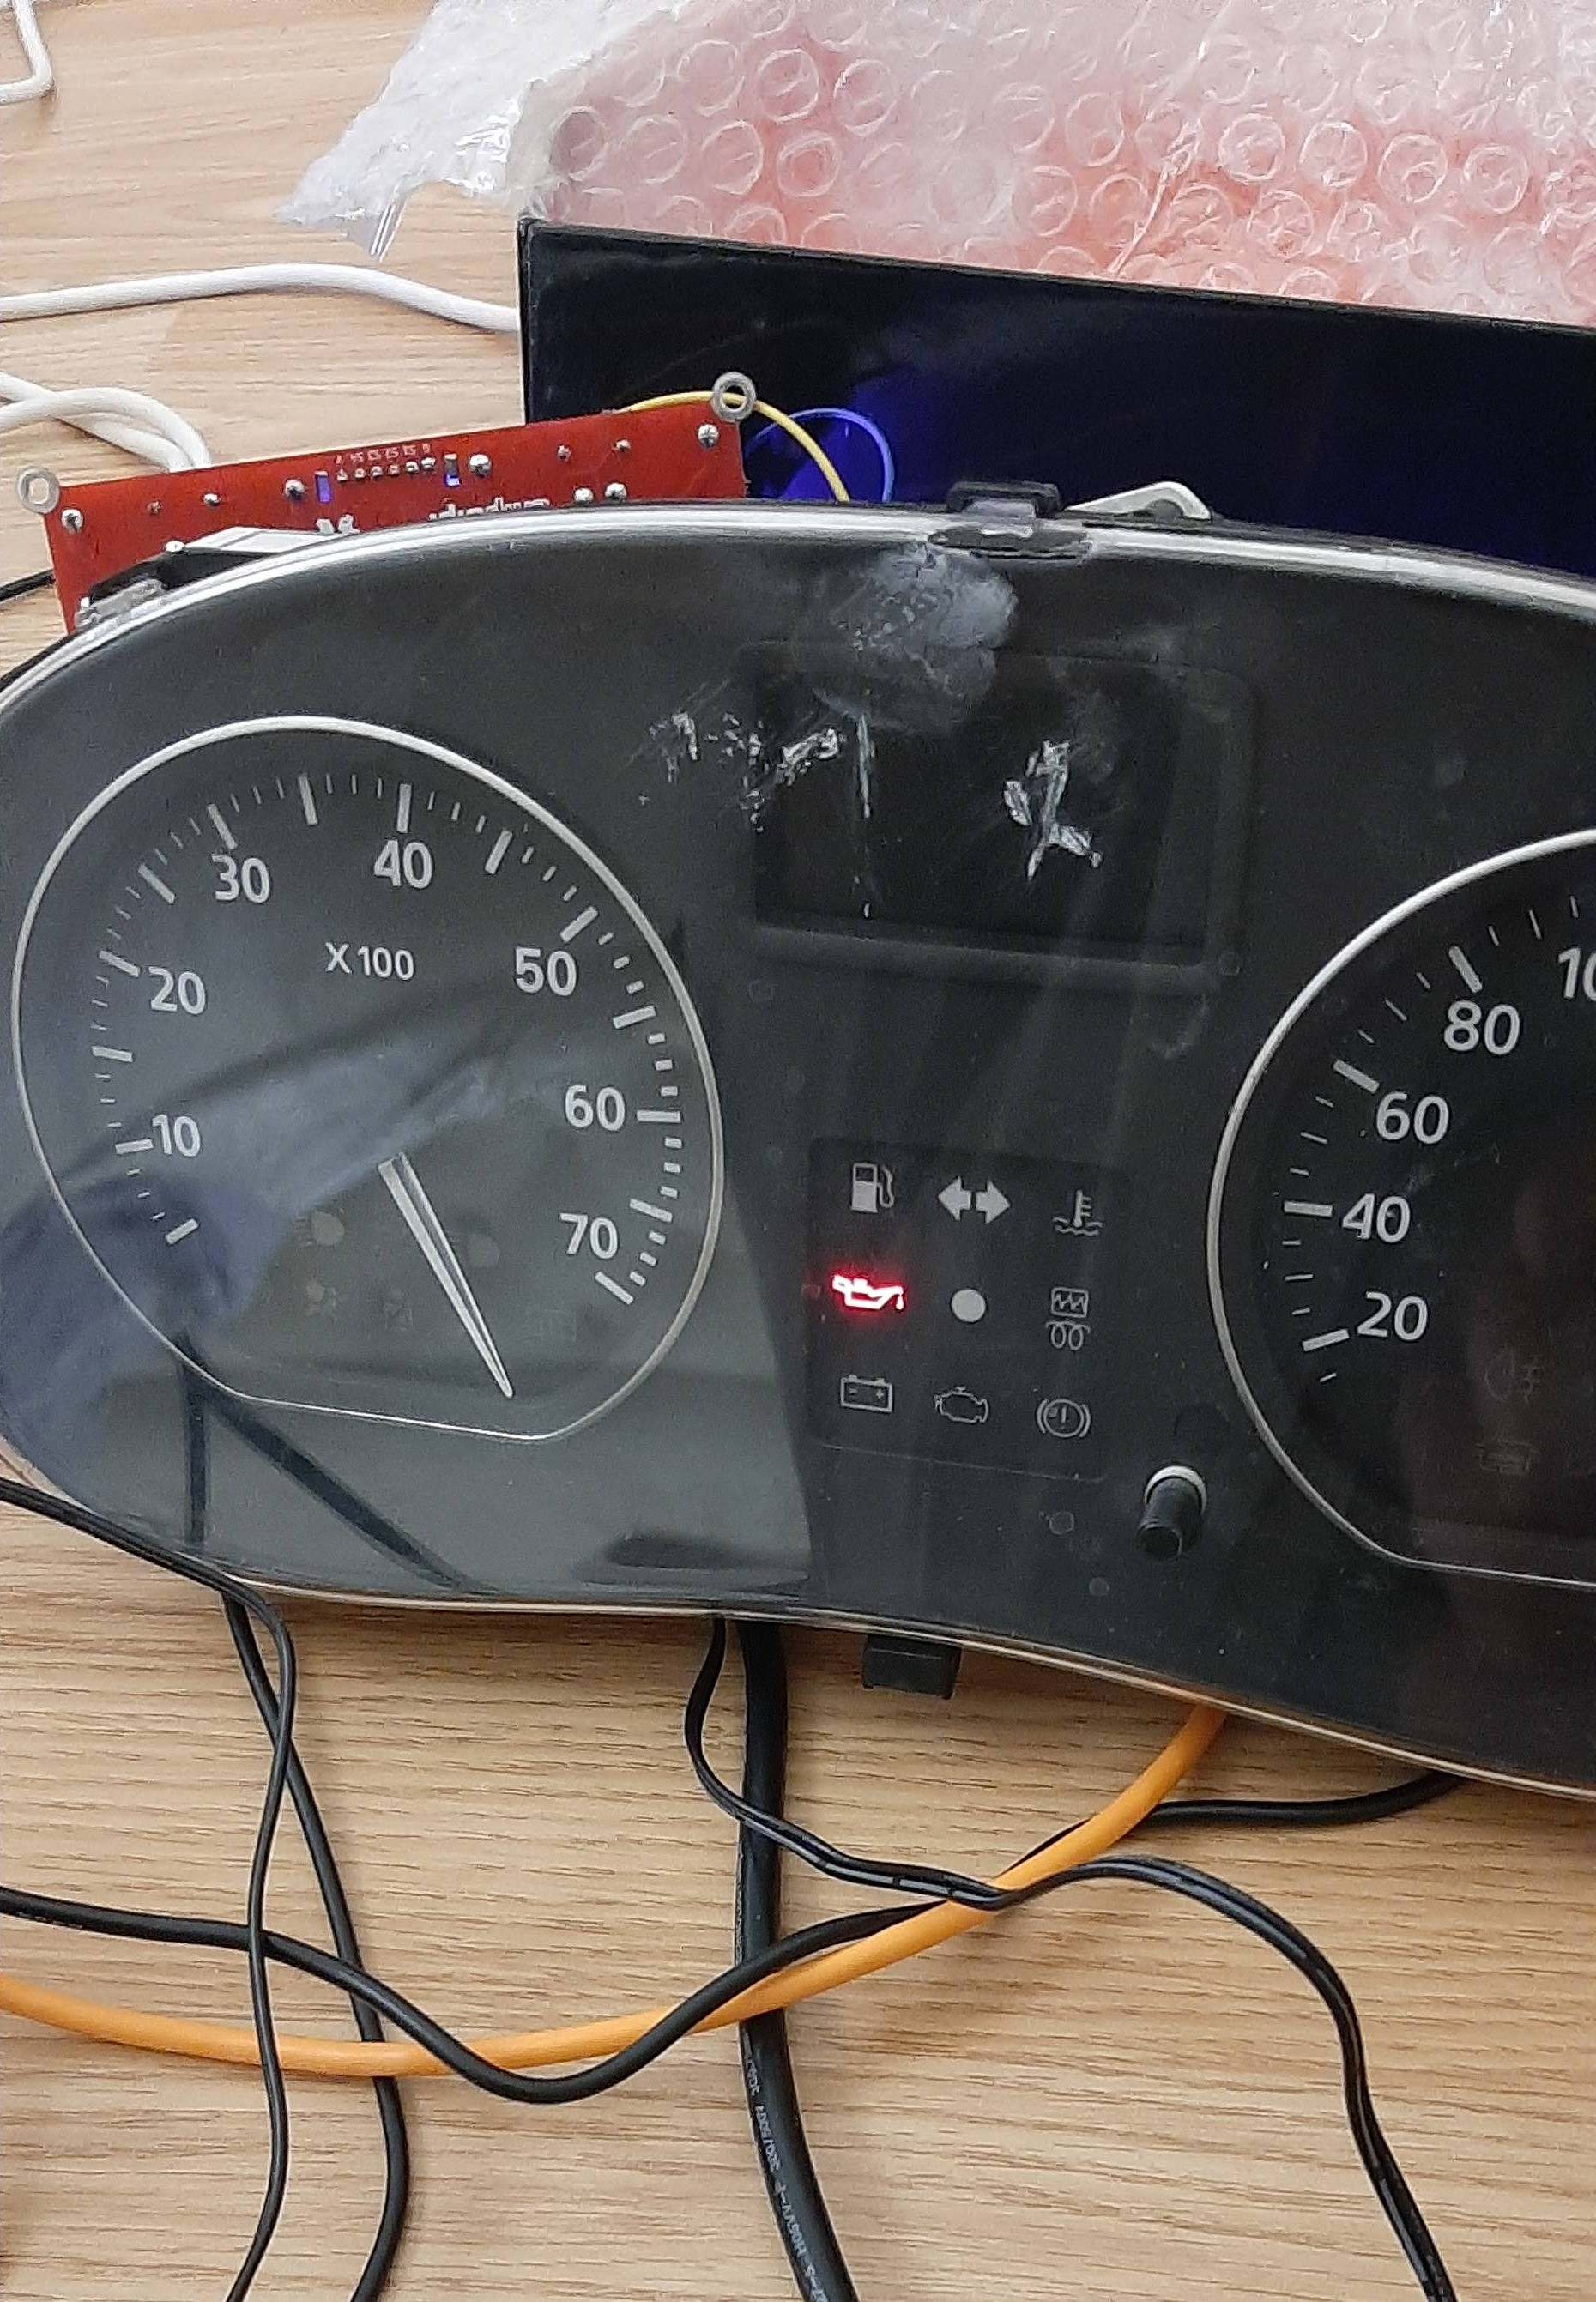oil25: (828, 1268, 908, 1314)
